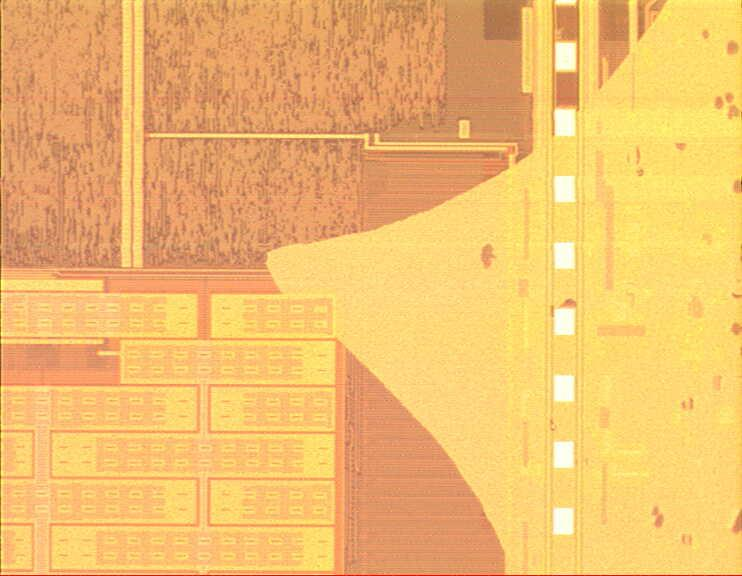BLOCK ETCH: (264, 1, 742, 576)
